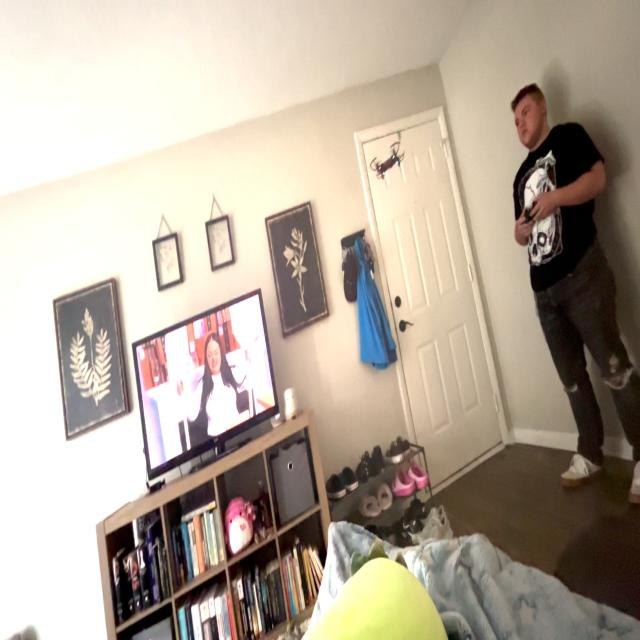drone: (362, 132, 416, 194)
